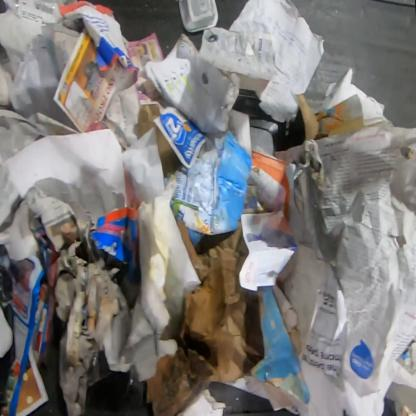cardboard: (144, 218, 263, 416), (249, 241, 328, 406), (171, 129, 252, 246), (0, 253, 51, 415), (86, 203, 142, 288), (133, 103, 176, 176), (296, 93, 320, 140)
rigid_plastic: (178, 0, 220, 33)
soft_plastic: (1, 0, 78, 25)
